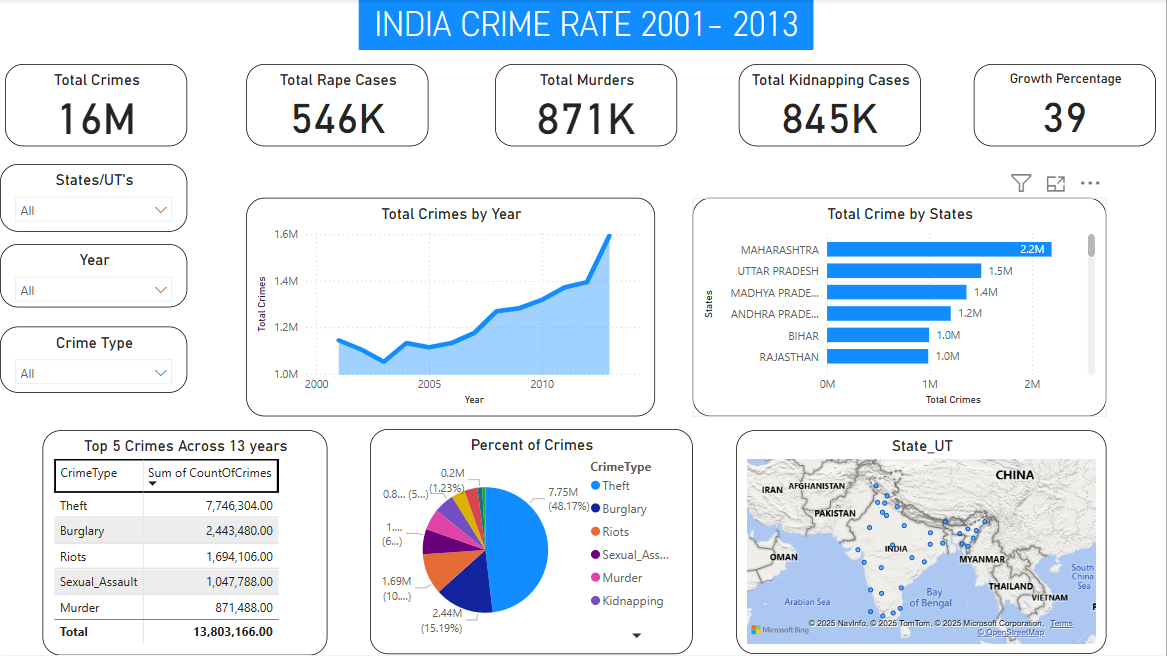

The dashboard page shown, as its layout file describes it:
{"tool":"powerbi","page":{"name":"Page 1","canvas":[1280,720],"ordinal":0},"visuals":[{"type":"card","title":"Total Crimes","fields":{"Values":["crimes.Total_Crimes"]},"box":[5.5,71.4,200.3,90.6],"z":0},{"type":"card","title":"Total Rape Cases","fields":{"Values":["crimes.Total_Rape_Cases"]},"box":[270.3,71.4,200.3,90.6],"z":1000},{"type":"card","title":"Total Murders","fields":{"Values":["crimes.Total_Murders"]},"box":[543.4,71.4,200.3,90.6],"z":2000},{"type":"card","title":"Growth Percentage","fields":{"Values":["crimes.Growth_Percent"]},"box":[1069,71.4,200.3,90.6],"z":3000},{"type":"card","title":"Total Kidnapping Cases","fields":{"Values":["Sum(crimes.Kidnapping)"]},"box":[811,71.4,200.3,90.6],"z":4000},{"type":"lineChart","title":"Total Crimes by Year","fields":{"Category":["crimes.Year"],"Y":["crimes.Total_Crimes"]},"box":[270.3,218.2,448.7,240.1],"z":5000},{"type":"clusteredBarChart","title":"Total Crime by States","fields":{"Y":["crimes.Total_Crimes"],"Category":["crimes.State_UT"]},"box":[760.2,218.2,454.2,240.1],"z":6000},{"type":"map","fields":{"Category":["crimes.State_UT"]},"box":[807.7,474.1,406.8,245.8],"z":7000},{"type":"textbox","box":[393.8,0,499.5,56.3],"z":8000},{"type":"slicer","title":"States/UT''s","fields":{"Values":["crimes.State_UT"]},"box":[0,181.1,205.8,74.1],"z":9000},{"type":"slicer","title":"Year","fields":{"Values":["crimes.Year"]},"box":[0,269,205.8,70],"z":10000},{"type":"tableEx","title":"Top 5 Crimes Across 13 years","fields":{"Values":["crimes (2).CrimeType","Sum(crimes (2).CountOfCrimes)"]},"box":[46.7,473.4,312.9,247],"z":11000},{"type":"pieChart","title":"Percent of Crimes","fields":{"Y":["Sum(crimes (2).CountOfCrimes)"],"Category":["crimes (2).CrimeType"]},"box":[406.2,472,354,247],"z":12000},{"type":"slicer","title":"Crime Type","fields":{"Values":["crimes (2).CrimeType"]},"box":[0,359.5,205.8,72.7],"z":13000}]}

Visuals, with their boxes in screenshot pixels (x1, y1, x2, y2), scaled from the page's 1280x720 canvas onto the 1167x656 screenshot:
"Total Crimes" card: 5,65,188,148
"Total Rape Cases" card: 246,65,429,148
"Total Murders" card: 495,65,678,148
"Growth Percentage" card: 975,65,1157,148
"Total Kidnapping Cases" card: 739,65,922,148
"Total Crimes by Year" lineChart: 246,199,656,418
"Total Crime by States" clusteredBarChart: 693,199,1107,418
map - crimes.State_UT: 736,432,1107,655
textbox: 359,0,814,51
"States/UT''s" slicer: 0,165,188,233
"Year" slicer: 0,245,188,309
"Top 5 Crimes Across 13 years" tableEx: 43,431,328,655
"Percent of Crimes" pieChart: 370,430,693,655
"Crime Type" slicer: 0,328,188,394
